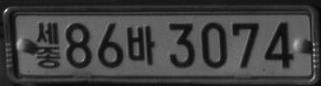0: (200, 21, 228, 69)
3: (168, 22, 195, 69)
4: (264, 21, 294, 69)
6: (97, 22, 124, 68)
7: (231, 21, 259, 67)
8: (64, 21, 92, 69)
바: (126, 25, 156, 66)
세종_V: (35, 22, 61, 69)
